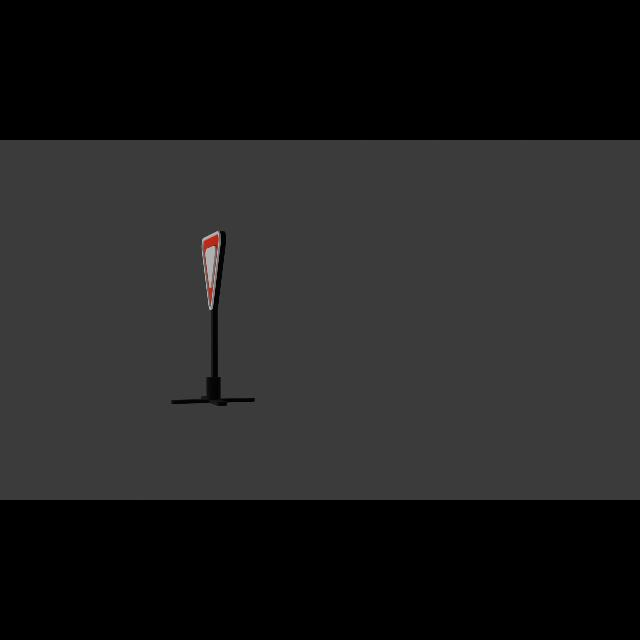sign_yield: (201, 234, 229, 311)
